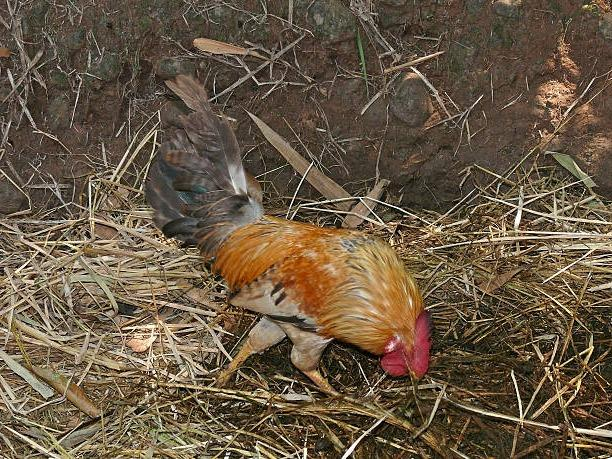AbNormal: (143, 76, 433, 423)
